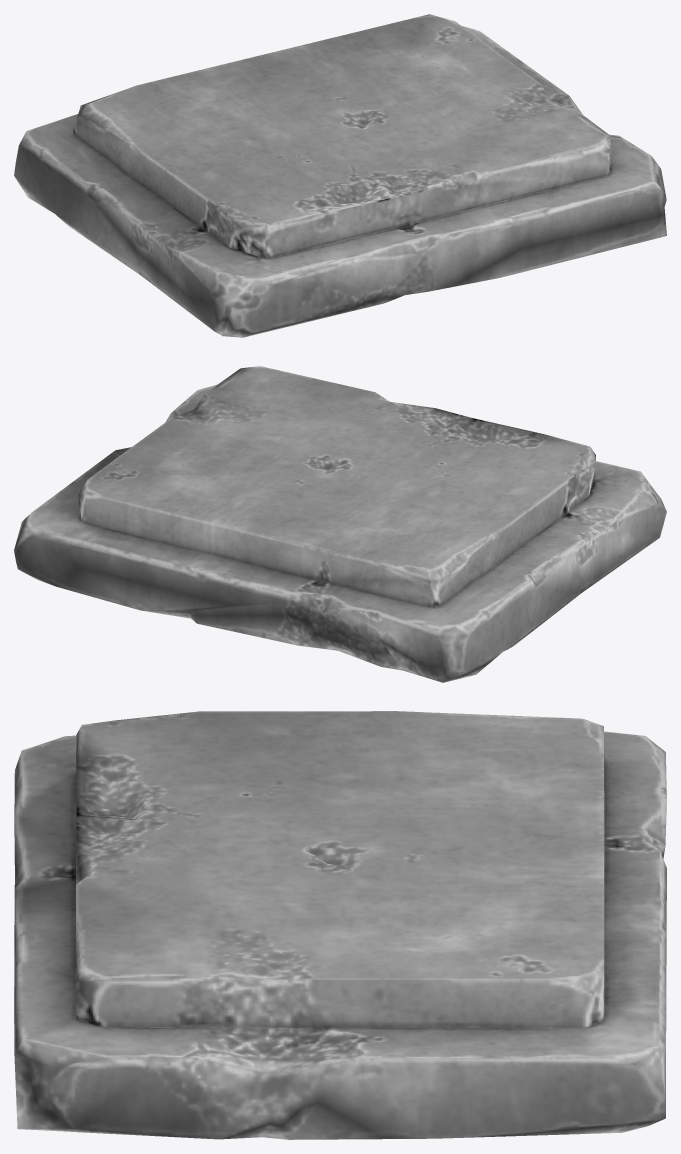
Rendered from SM_TempleTrimMid_Ledge_4.fbx.
3 views of the same model, one above another, from view 1: azimuth 30°, elevation 25°; view 2: azimuth 150°, elevation 25°; view 3: azimuth 270°, elevation 25° (orthographic). The views are drawn at different scales.
Parts seen in each view (by area): view 1: SM_TempleTrimMid_Ledge4_LOD0; view 2: SM_TempleTrimMid_Ledge4_LOD0; view 3: SM_TempleTrimMid_Ledge4_LOD0.
Part boxes in pixels (x1,y1,x2,y2): SM_TempleTrimMid_Ledge4_LOD0: [14, 14, 666, 337]; SM_TempleTrimMid_Ledge4_LOD0: [14, 366, 666, 682]; SM_TempleTrimMid_Ledge4_LOD0: [14, 711, 666, 1139].
Size of what is drawn, in the model's own units: 200 by 36.73 by 167.
Materials: 1 (1 with a texture image).
